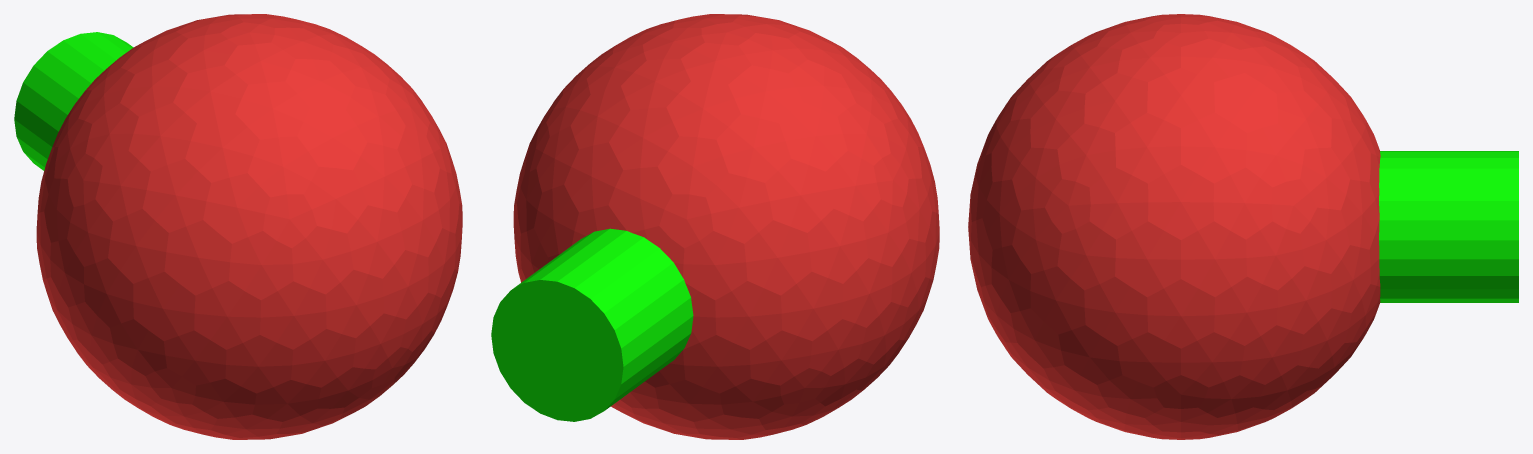
File: glove.fbx
3 renders of one model, left to right at view 1: azimuth 30°, elevation 25°; view 2: azimuth 150°, elevation 25°; view 3: azimuth 270°, elevation 25°, orthographic.
Parts seen in each view (by area): view 1: Icosphere; view 2: Icosphere; view 3: Icosphere.
Boxes of the visible parts, box(x1,y1,x2,y2) form: Icosphere: box(14, 14, 462, 439); Icosphere: box(491, 14, 939, 439); Icosphere: box(968, 14, 1518, 439).
Size of the model in its own units: 24.71 by 24.85 by 31.96.
